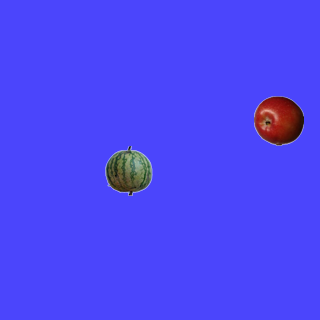Apple Braeburn: (253, 95, 303, 145)
Watermelon: (103, 145, 153, 195)
